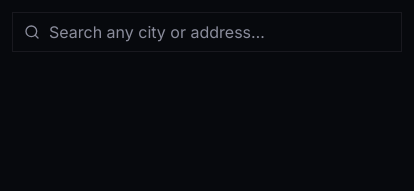
Test: LocationSearch › recovers from a stalled search and ignores its late response
Type "berlin" into the dropdown at (207, 32), box 12,12 -> 402,52
Wait 8400 ms
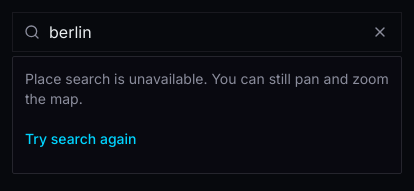
Expected: the button "Try search again" is shown, 25,117 -> 136,161
